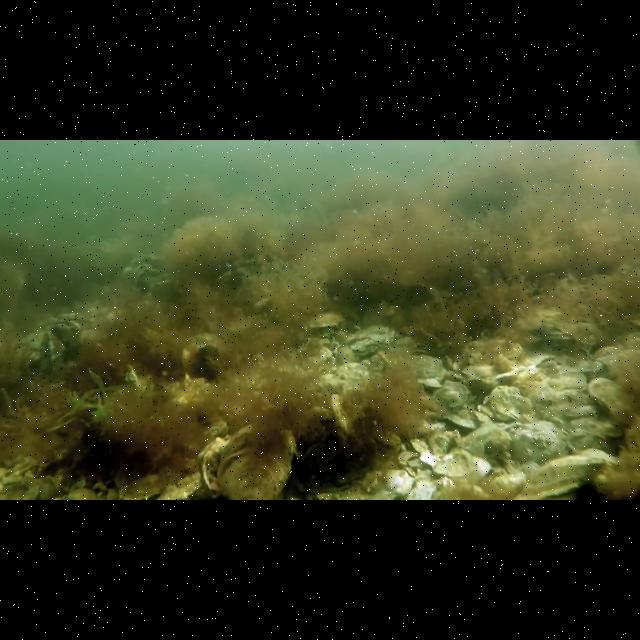Oyster-Closed: (217, 422, 306, 500), (303, 308, 350, 332)
